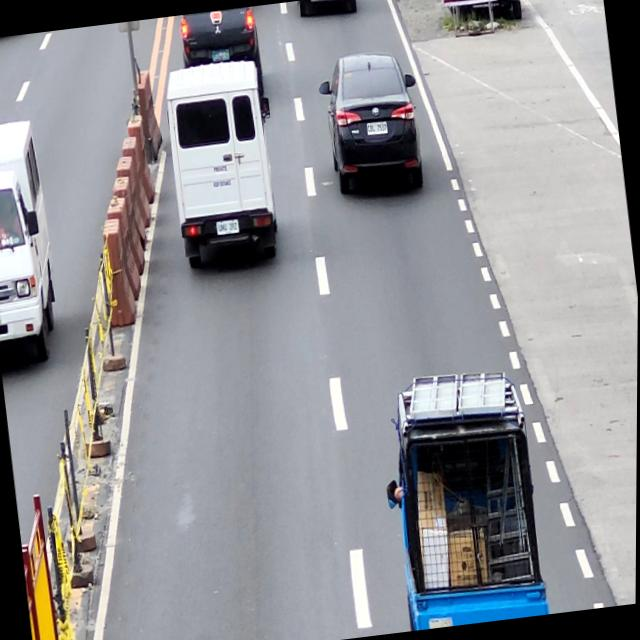Car: (160, 58, 290, 272), (315, 46, 430, 202), (177, 5, 266, 100)
License-Plate: (216, 218, 240, 236), (366, 121, 388, 136), (211, 48, 230, 63)
Truck: (371, 361, 551, 632)
